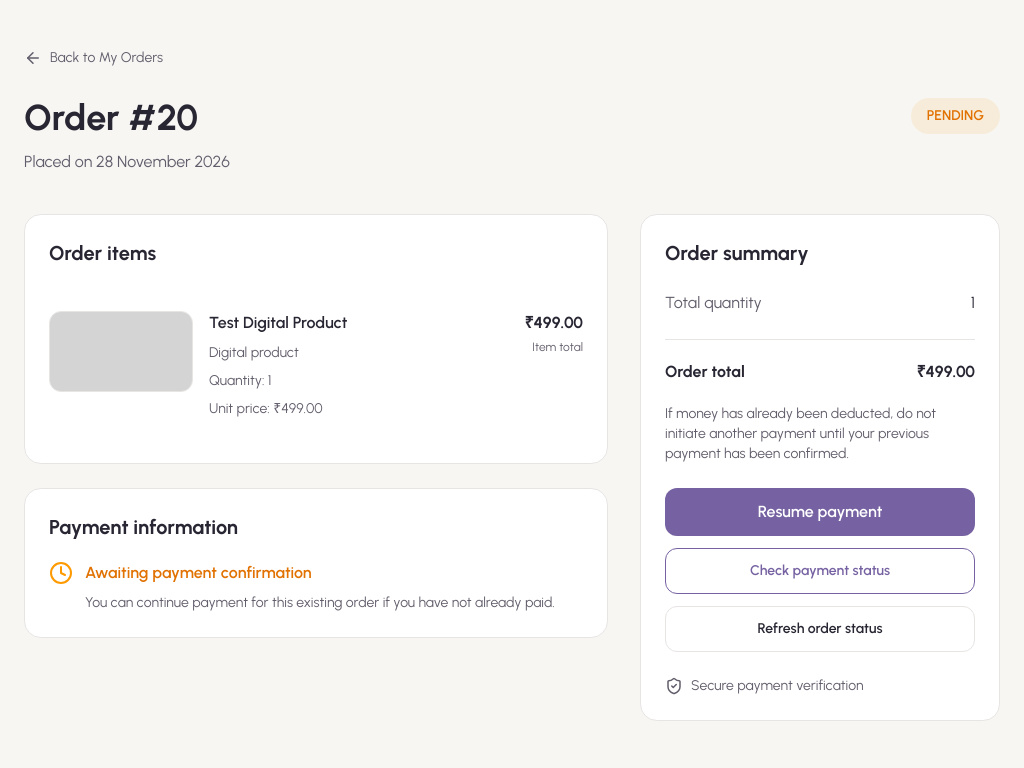
OrderDetailsPage payment workflow › allows verification retry without another checkout
The image size is (1024, 768).
Click the button "Resume payment": x=820, y=512 top-left (665, 488), bottom-right (975, 536)
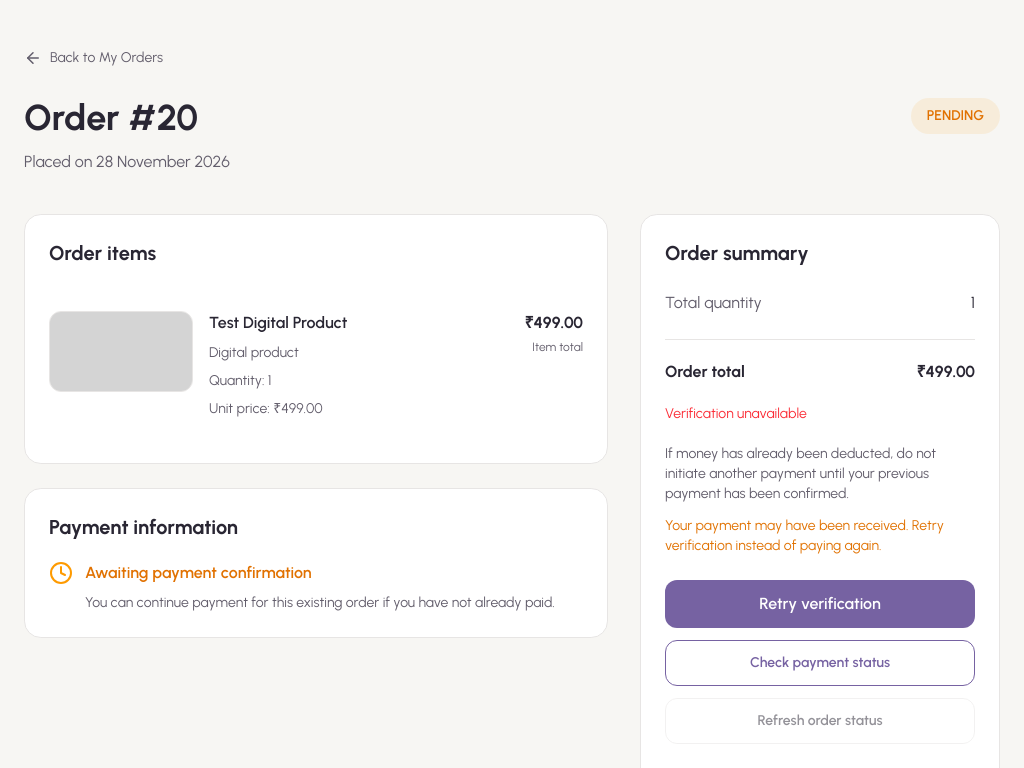
Expected: the message reads "Verification unavailable", top-left (665, 405), bottom-right (807, 422)
Expected: the text "Your payment may have been received" is shown, top-left (665, 517), bottom-right (944, 554)
Expected: the button "Refresh order status" is disabled, top-left (665, 698), bottom-right (975, 744)
Click the button "Retry verification": x=820, y=604 top-left (665, 580), bottom-right (975, 628)
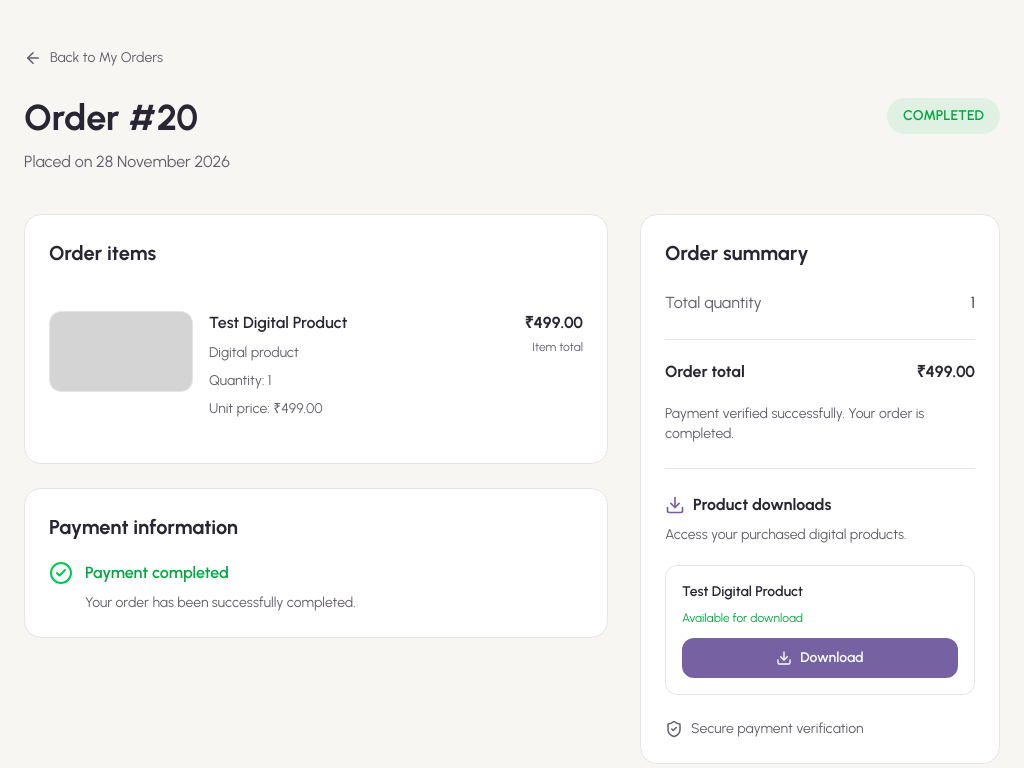
Expected: the text "COMPLETED" is shown, top-left (887, 98), bottom-right (1000, 134)
